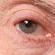eye: (20, 21, 36, 34)
